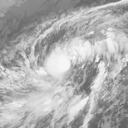cyclone: (48, 52, 73, 77)
